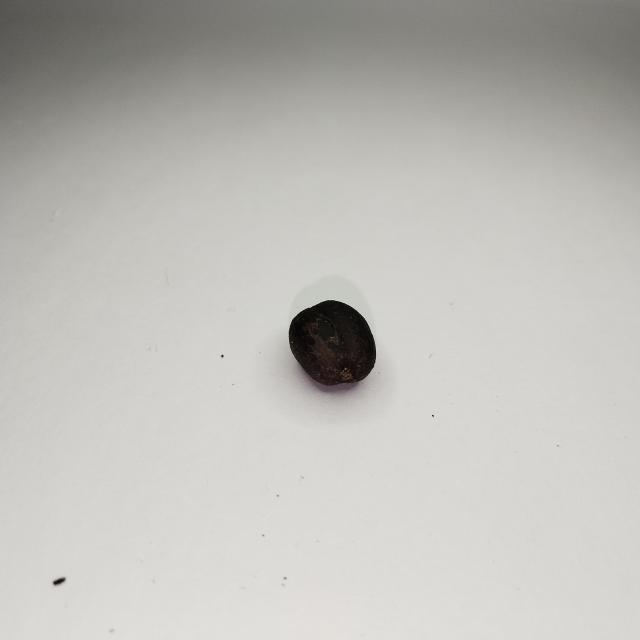Danado: (290, 303, 374, 385)
